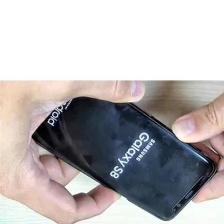phone: (4, 76, 221, 223)
